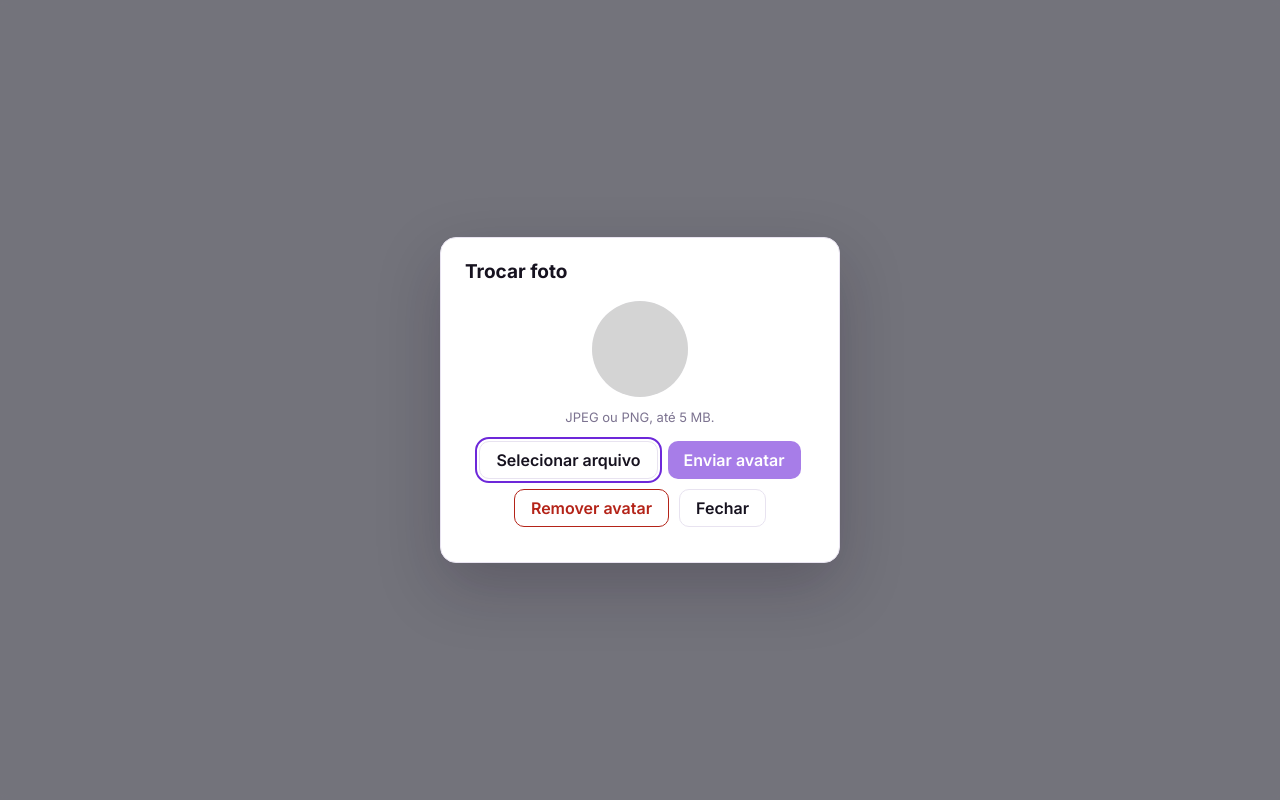
Test: AvatarDialog › falls back to a generic message when a remove rejects with a non-AvatarUploadError
What coordinates should you click on to do the following:
click the button "Remover avatar"
I would click on:
 (591, 508)
Its box is left=514, top=489, right=669, bottom=527.
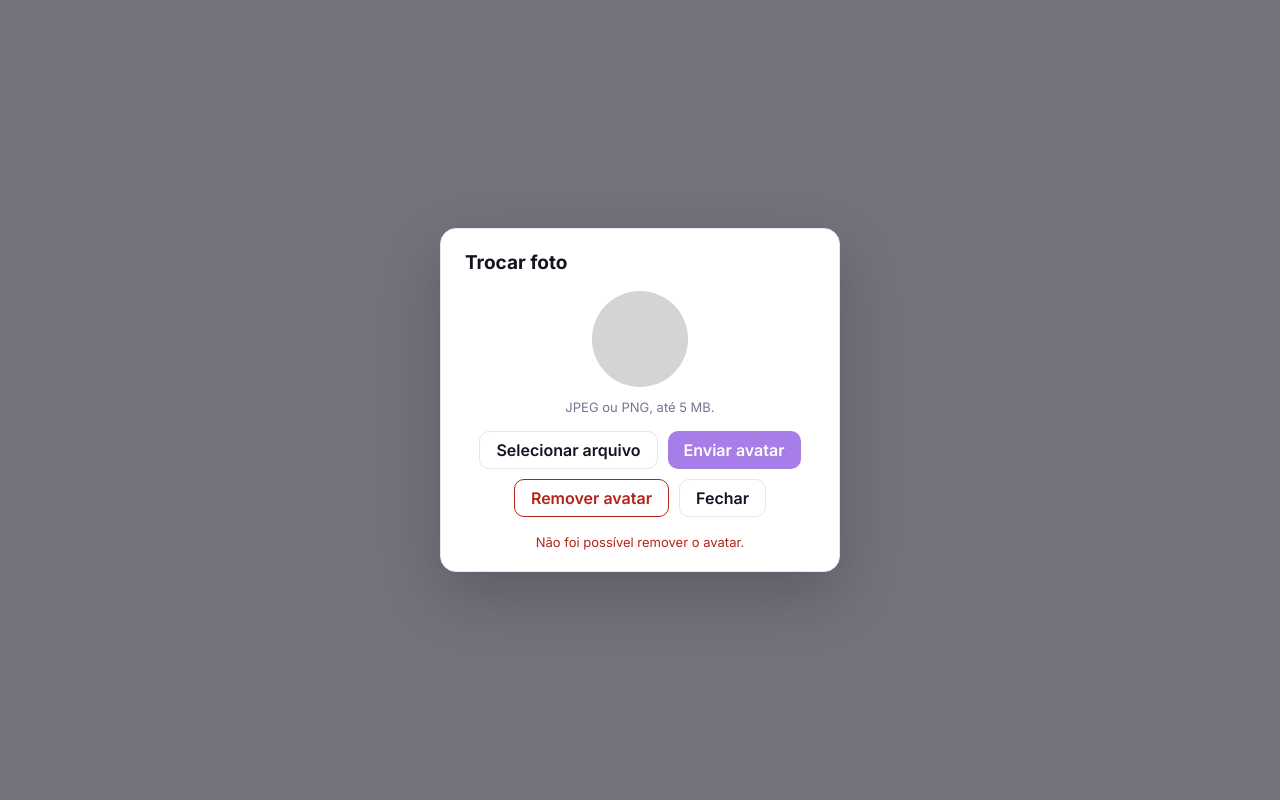
Now the text "Não foi possível remover o avatar." is shown, box left=536, top=534, right=744, bottom=550
